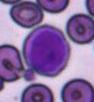L: (23, 25, 70, 77)
